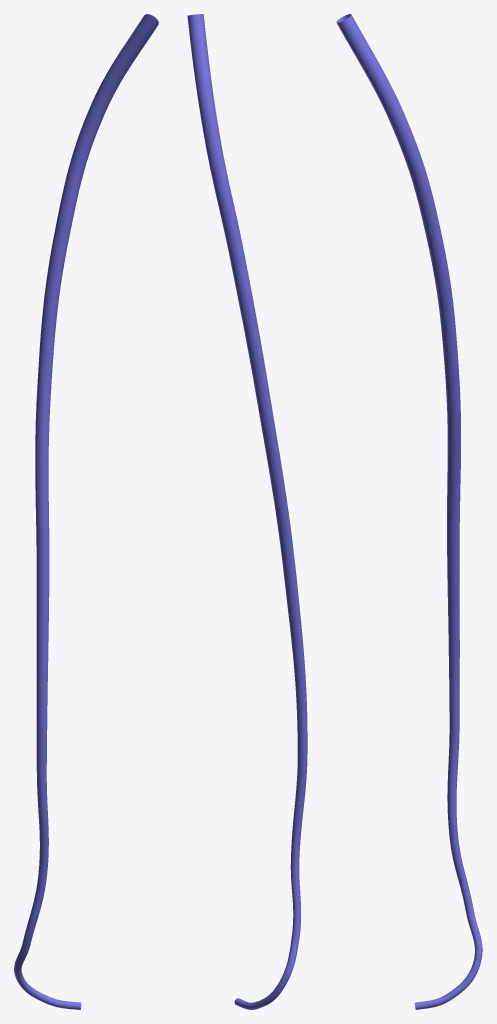
The model's file is Fibular_veins.l_BezierCurve.322.glb.
3 views of the same model, side by side, from view 1: azimuth 90°, elevation 25°; view 2: azimuth 210°, elevation 25°; view 3: azimuth 270°, elevation 25° (orthographic). The views are drawn at different scales.
Parts seen in each view (by area): view 1: Fibular_veins.l_BezierCurve.322; view 2: Fibular_veins.l_BezierCurve.322; view 3: Fibular_veins.l_BezierCurve.322.
Part boxes in pixels (bbox=[...]): Fibular_veins.l_BezierCurve.322: bbox=[14, 14, 158, 1009]; Fibular_veins.l_BezierCurve.322: bbox=[187, 14, 307, 1009]; Fibular_veins.l_BezierCurve.322: bbox=[336, 14, 482, 1009].
Bounding box in the file's own units: 0.0261 × 0.3211 × 0.0426.
